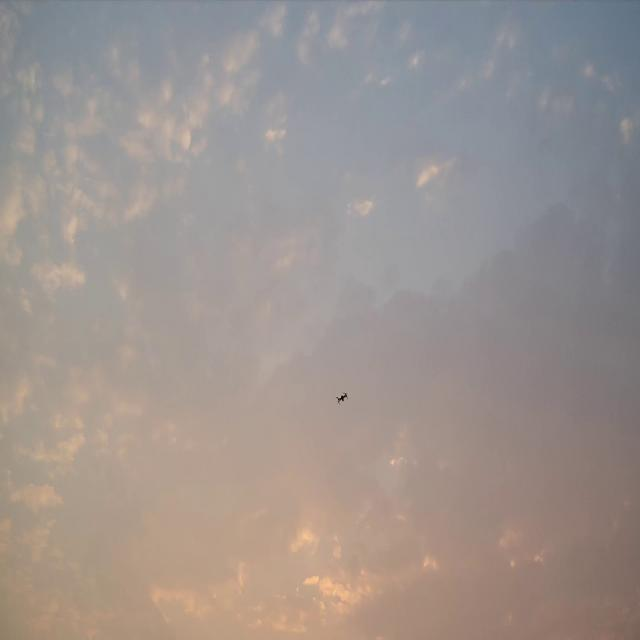drone: (336, 392, 348, 404)
